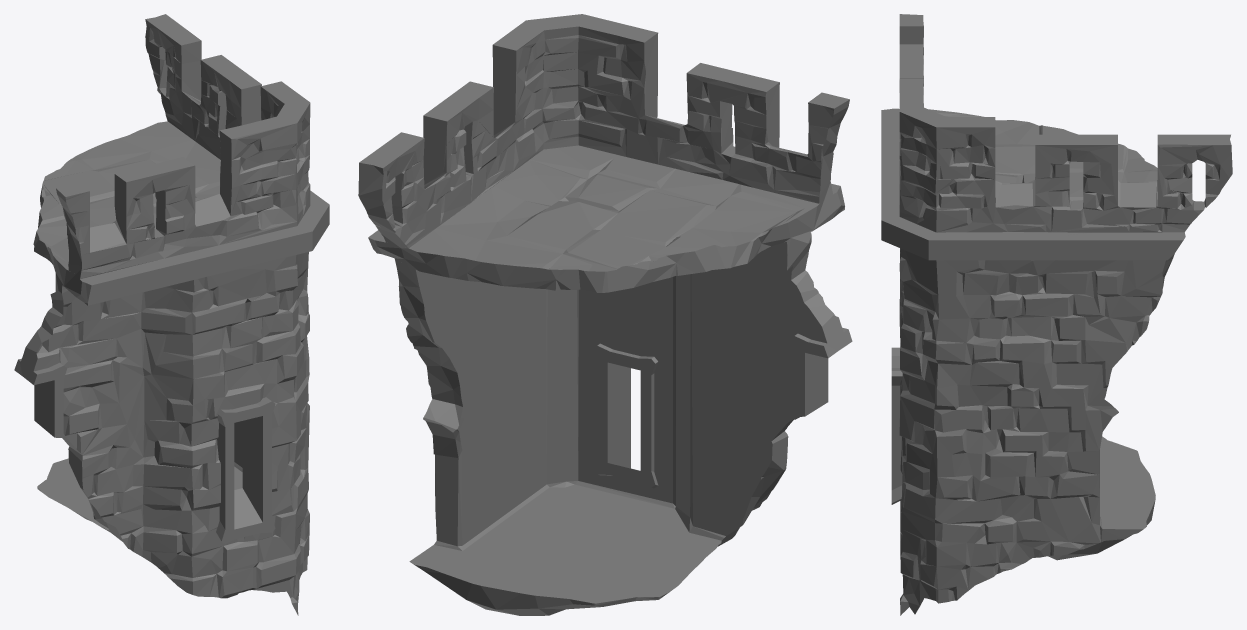
Rendered from castle_gate_house_c_destroyed_part.FBX.
3 renders of one model, left to right at view 1: azimuth 30°, elevation 25°; view 2: azimuth 150°, elevation 25°; view 3: azimuth 270°, elevation 25°, orthographic. The views are drawn at different scales.
Parts seen in each view (by area): view 1: castle_gate_house_c_destroyed_part; view 2: castle_gate_house_c_destroyed_part; view 3: castle_gate_house_c_destroyed_part.
Part boxes in pixels (x1,y1,x2,y2): castle_gate_house_c_destroyed_part: (14, 14, 329, 615); castle_gate_house_c_destroyed_part: (358, 14, 852, 615); castle_gate_house_c_destroyed_part: (881, 14, 1232, 615).
Bounding box in the file's own units: 5.69 × 9.08 × 5.75.
